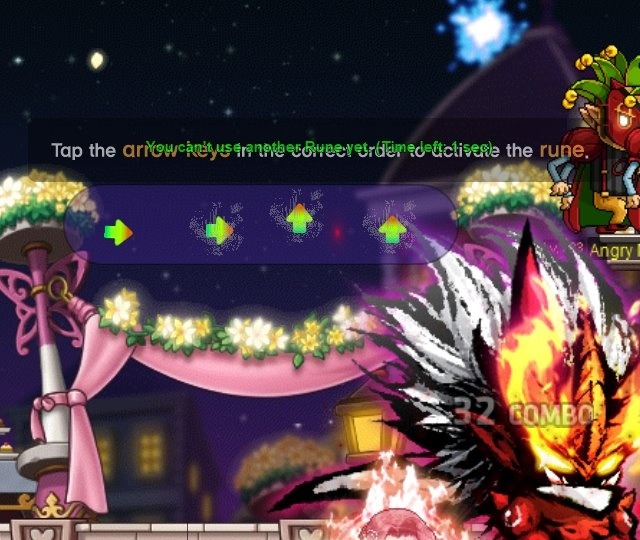rune_box: (55, 174, 468, 274)
